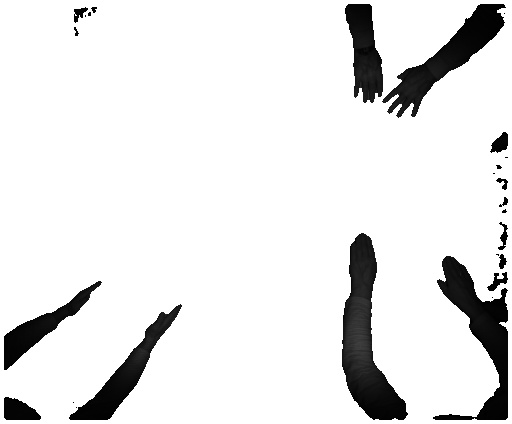hand: (386, 69, 440, 119), (432, 256, 480, 303), (344, 232, 383, 287), (352, 54, 386, 105)
spine: (143, 304, 183, 348), (64, 280, 103, 319)
